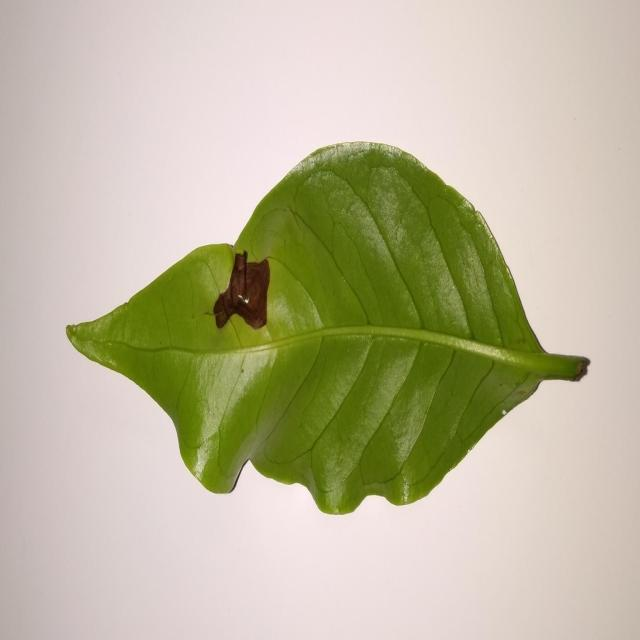Enfermedad-Antracnosis: (63, 142, 590, 519)
